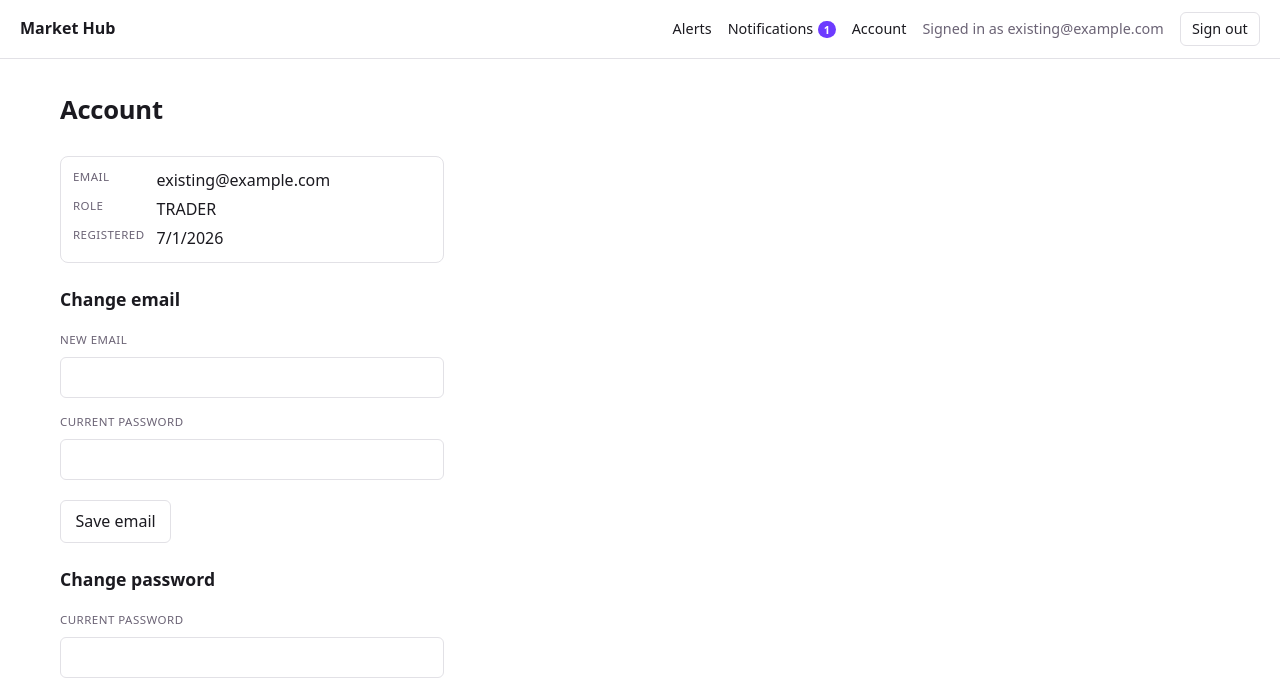
it: AccountPage › changes email with the correct current password
The width and height of the screenshot is (1280, 687).
Expected: the text "existing@example.com" is shown, [157,169,330,191]
Type "new-account-email@example.com" into the field labelled "New email". click: (252, 378)
box: [60,357,444,398]
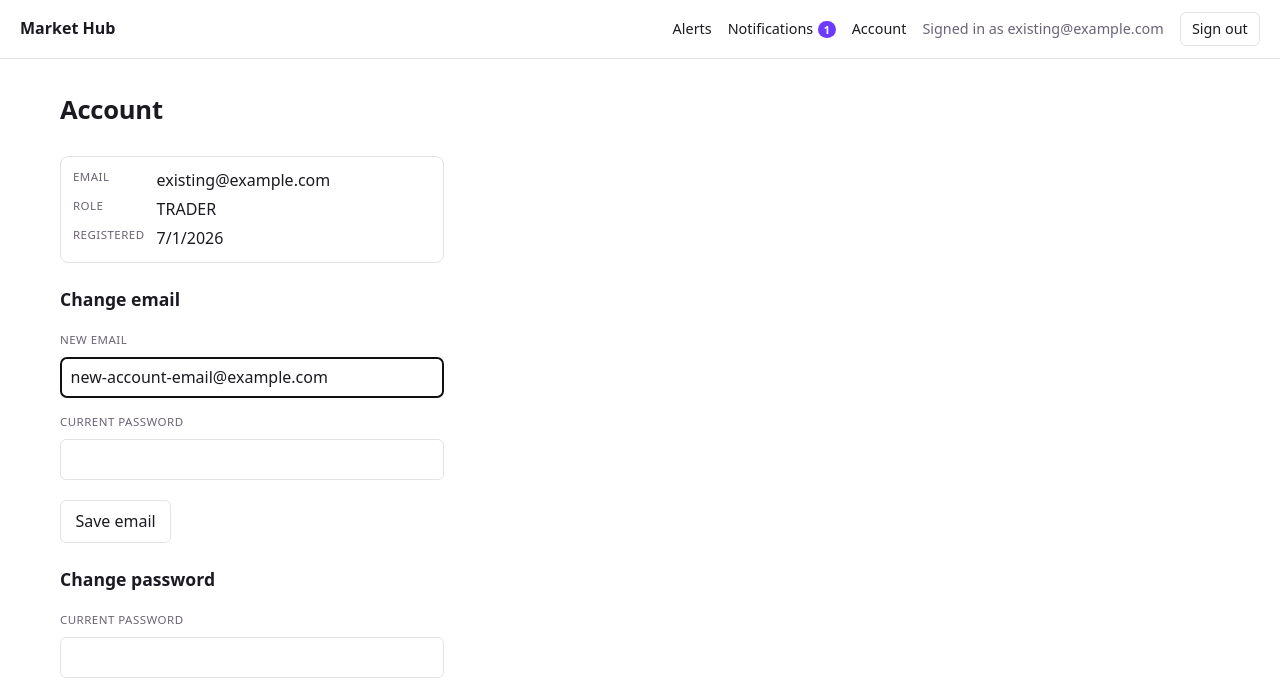
Type "correct-password" into the password field labelled "Current password" below "New email". click: (252, 460)
box: [60,439,444,480]
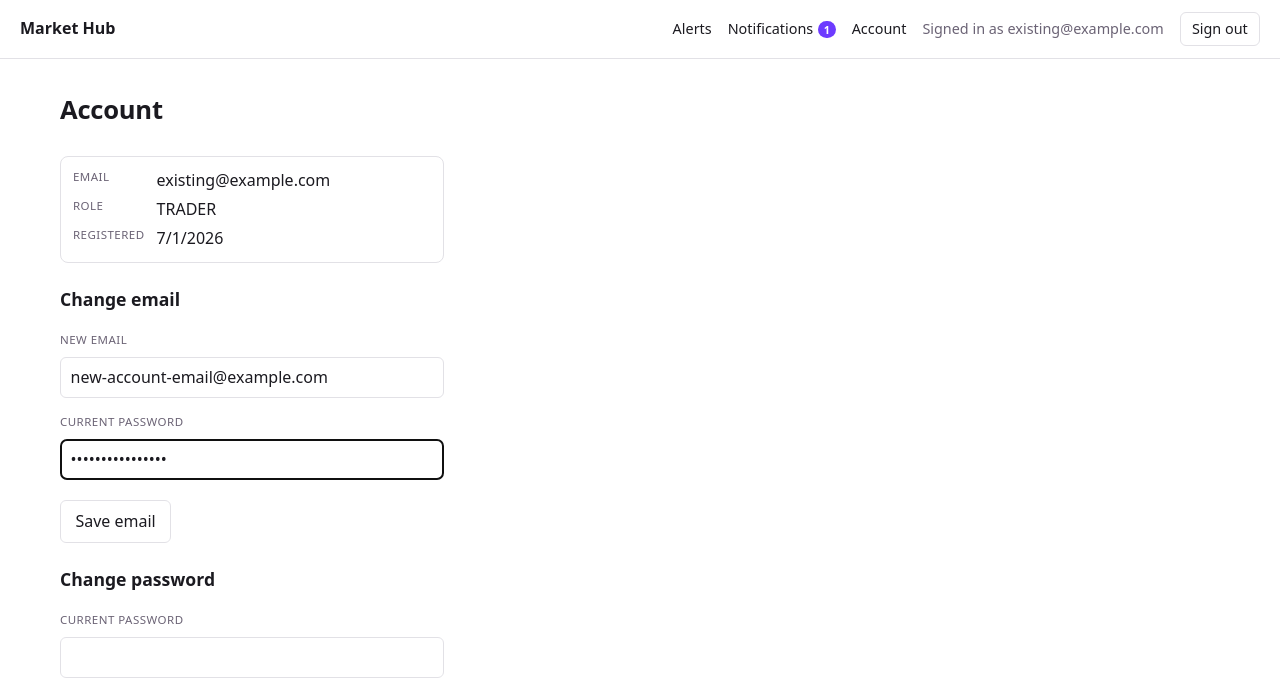
Click the button "Save email". click: (116, 522)
box: [60,500,171,543]
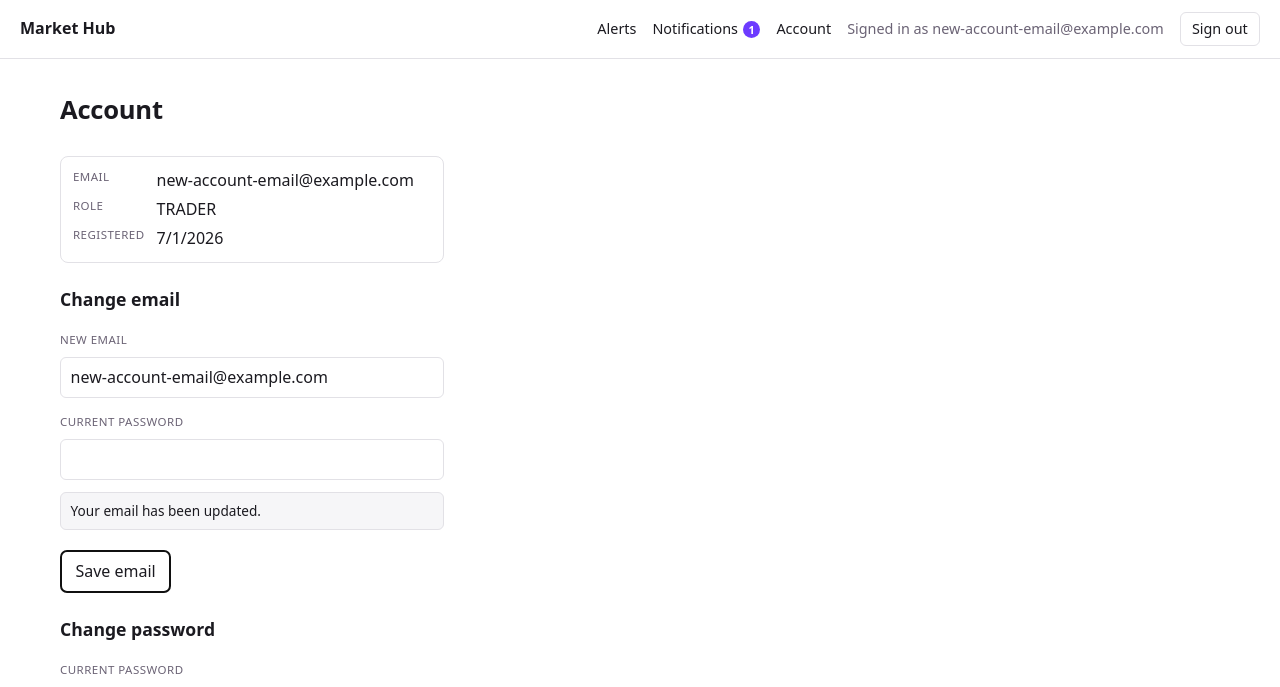
Result: the text "Your email has been updated." is shown at [60,492,444,530]
Result: the text "new-account-email@example.com" is shown at [157,169,431,192]
